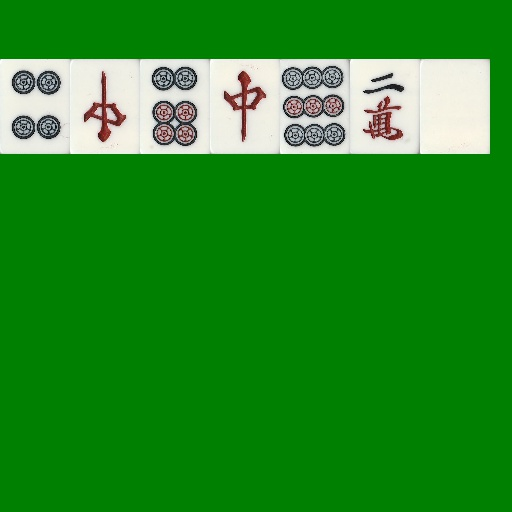2m: (350, 59, 420, 154)
4p: (0, 59, 70, 154)
6p: (140, 59, 210, 154)
9p: (280, 59, 350, 154)
tyun: (70, 59, 140, 154), (210, 59, 280, 154)
white: (420, 59, 490, 154)
